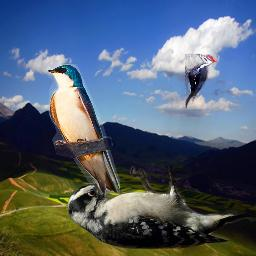Swallow: (47, 64, 120, 194)
Woodpecker: (68, 166, 256, 249), (185, 54, 218, 109)
